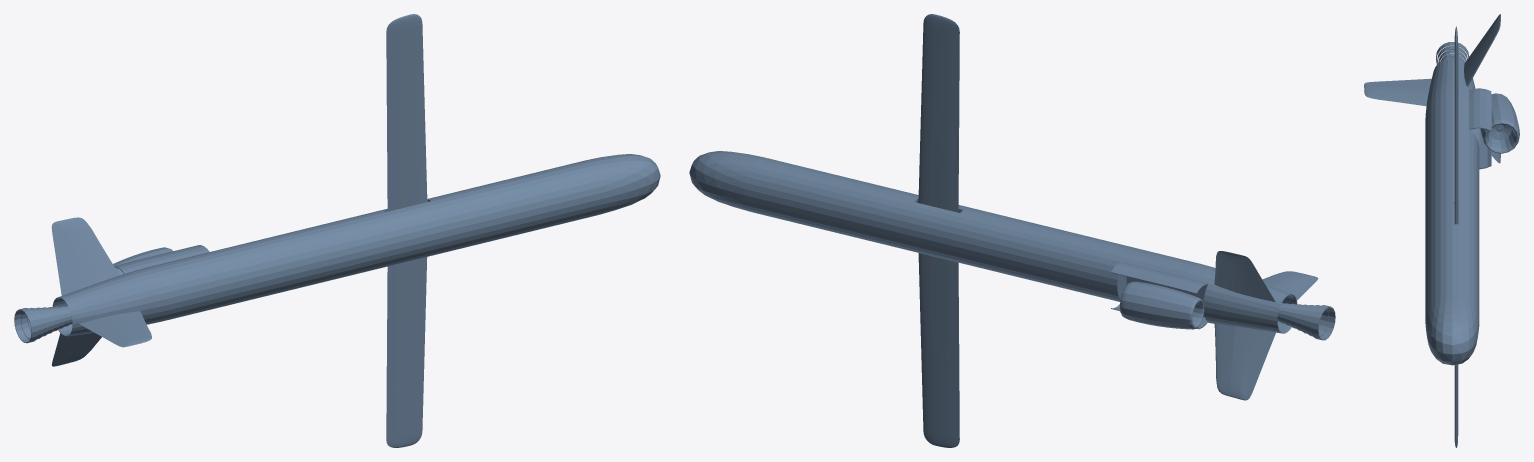
3 renders of one model, left to right at view 1: azimuth 30°, elevation 25°; view 2: azimuth 150°, elevation 25°; view 3: azimuth 270°, elevation 25°, orthographic. The views are drawn at different scales.
Parts seen in each view (by area): view 1: Shape01; view 2: Shape01; view 3: Shape01.
Part boxes in pixels (box(x1,y1,x2,y2)): Shape01: box(14, 14, 660, 447); Shape01: box(689, 14, 1335, 447); Shape01: box(1364, 14, 1519, 447).
Bounding box in the file's own units: 1.2 × 0.781 × 0.2666.
